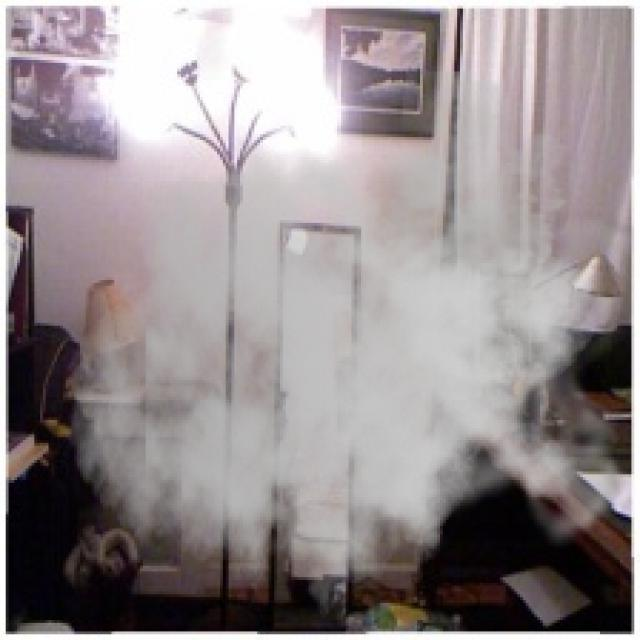smoke: (66, 72, 637, 637)
